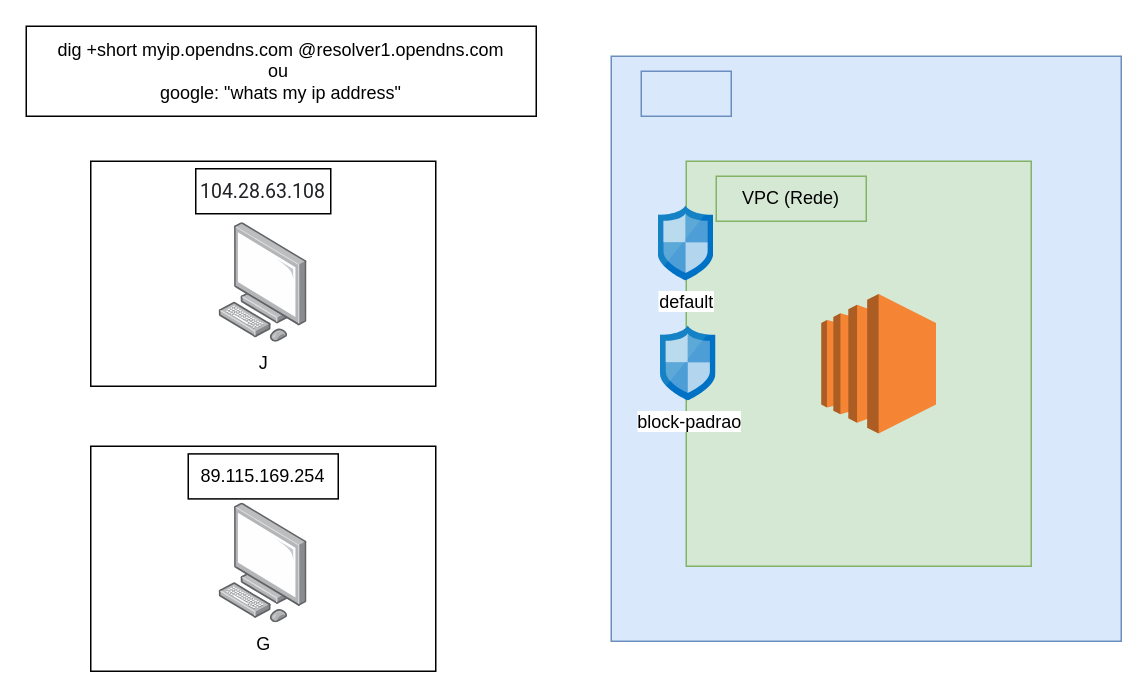
Image size: 1148x698. Some labels were removed from this diagram. Here are the shapes that lost their labels. From the top down, the box of each, then its label:
(640, 70, 731, 116): AWS
(820, 292, 936, 434): Ubuntu 20.04 18.192.104.109
